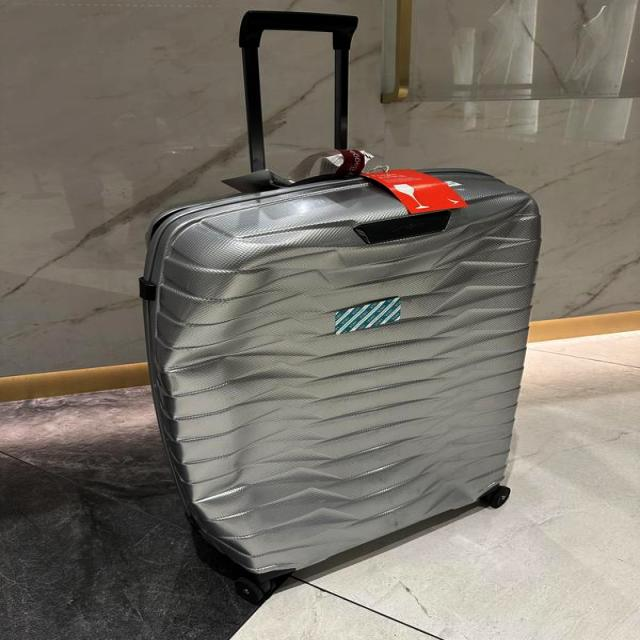Damage-bag: (148, 252, 357, 556)
